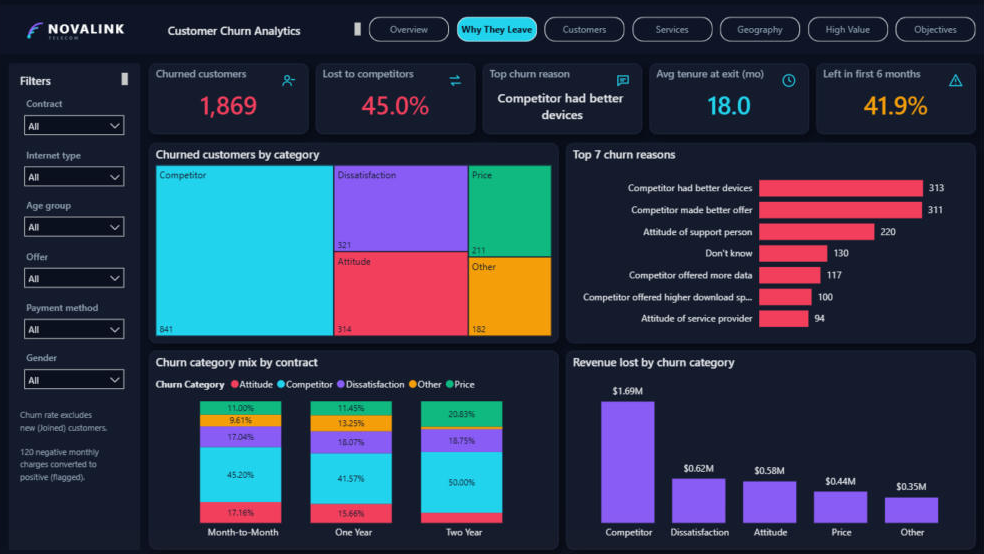

What the dashboard file says about the page in this screenshot:
{"tool":"powerbi","page":{"name":"Why They Leave","canvas":[1280,720],"ordinal":1},"visuals":[{"type":"textbox","box":[0,0,1280,64],"z":2800},{"type":"image","box":[14,8,196,48],"z":2900},{"type":"textbox","box":[214,18,260,32],"z":3000},{"type":"pageNavigator","box":[480,16,788,32],"z":3100},{"type":"textbox","box":[12,76,170,632],"z":3200},{"type":"textbox","box":[22,84,150,26],"z":3300},{"type":"slicer","fields":{"Values":["Customers.Contract"]},"box":[22,116,150,58],"z":3400},{"type":"slicer","fields":{"Values":["Customers.Internet Type"]},"box":[22,182,150,58],"z":3500},{"type":"slicer","fields":{"Values":["Customers.Age Group"]},"box":[22,248,150,58],"z":3600},{"type":"slicer","fields":{"Values":["Customers.Offer"]},"box":[22,314,150,58],"z":3700},{"type":"slicer","fields":{"Values":["Customers.Payment Method"]},"box":[22,380,150,58],"z":3800},{"type":"slicer","fields":{"Values":["Customers.Gender"]},"box":[22,446,150,58],"z":3900},{"type":"textbox","box":[22,520,150,180],"z":4000},{"type":"card","title":"Churned customers","fields":{"Values":["Metrics.Churned"]},"box":[194,76,207,92],"z":4100},{"type":"image","box":[361,84,30,30],"z":4200},{"type":"card","title":"Lost to competitors","fields":{"Values":["Metrics.Competitor Churn Share"]},"box":[411,76,207,92],"z":4300},{"type":"image","box":[578,84,30,30],"z":4400},{"type":"card","title":"Top churn reason","fields":{"Values":["Metrics.Top Churn Reason"]},"box":[628,76,207,92],"z":4500},{"type":"image","box":[795,84,30,30],"z":4600},{"type":"card","title":"Avg tenure at exit (mo)","fields":{"Values":["Metrics.Avg Tenure Churned"]},"box":[844,76,207,92],"z":4700},{"type":"image","box":[1011,84,30,30],"z":4800},{"type":"card","title":"Left in first 6 months","fields":{"Values":["Metrics.Early Churn Share"]},"box":[1061,76,207,92],"z":4900},{"type":"image","box":[1228,84,30,30],"z":5000},{"type":"treemap","title":"Churned customers by category","fields":{"Group":["Customers.Churn Category"],"Values":["Metrics.Churned"]},"box":[194,180,532,260],"z":5100},{"type":"clusteredBarChart","title":"Top 7 churn reasons","fields":{"Category":["Customers.Churn Reason"],"Y":["Metrics.Churned"]},"box":[736,180,532,260],"z":5200},{"type":"hundredPercentStackedColumnChart","title":"Churn category mix by contract","fields":{"Category":["Customers.Contract"],"Series":["Customers.Churn Category"],"Y":["Metrics.Churned"]},"box":[194,450,532,258],"z":5300},{"type":"clusteredColumnChart","title":"Revenue lost by churn category","fields":{"Category":["Customers.Churn Category"],"Y":["Metrics.Revenue Lost"]},"box":[736,450,532,258],"z":5400}]}

Visuals, with their boxes in screenshot pixels (x1, y1, x2, y2), scaled from the page's 1280x720 canvas onto the 984x554 screenshot:
textbox: pyautogui.locateOnScreen(0, 0, 983, 49)
image: pyautogui.locateOnScreen(11, 6, 161, 43)
textbox: pyautogui.locateOnScreen(165, 14, 364, 38)
pageNavigator: pyautogui.locateOnScreen(369, 12, 975, 37)
textbox: pyautogui.locateOnScreen(9, 58, 140, 545)
textbox: pyautogui.locateOnScreen(17, 65, 132, 85)
slicer - Customers.Contract: pyautogui.locateOnScreen(17, 89, 132, 134)
slicer - Customers.Internet Type: pyautogui.locateOnScreen(17, 140, 132, 185)
slicer - Customers.Age Group: pyautogui.locateOnScreen(17, 191, 132, 235)
slicer - Customers.Offer: pyautogui.locateOnScreen(17, 242, 132, 286)
slicer - Customers.Payment Method: pyautogui.locateOnScreen(17, 292, 132, 337)
slicer - Customers.Gender: pyautogui.locateOnScreen(17, 343, 132, 388)
textbox: pyautogui.locateOnScreen(17, 400, 132, 539)
"Churned customers" card: pyautogui.locateOnScreen(149, 58, 308, 129)
image: pyautogui.locateOnScreen(278, 65, 301, 88)
"Lost to competitors" card: pyautogui.locateOnScreen(316, 58, 475, 129)
image: pyautogui.locateOnScreen(444, 65, 467, 88)
"Top churn reason" card: pyautogui.locateOnScreen(483, 58, 642, 129)
image: pyautogui.locateOnScreen(611, 65, 634, 88)
"Avg tenure at exit (mo)" card: pyautogui.locateOnScreen(649, 58, 808, 129)
image: pyautogui.locateOnScreen(777, 65, 800, 88)
"Left in first 6 months" card: pyautogui.locateOnScreen(816, 58, 975, 129)
image: pyautogui.locateOnScreen(944, 65, 967, 88)
"Churned customers by category" treemap: pyautogui.locateOnScreen(149, 138, 558, 339)
"Top 7 churn reasons" clusteredBarChart: pyautogui.locateOnScreen(566, 138, 975, 339)
"Churn category mix by contract" hundredPercentStackedColumnChart: pyautogui.locateOnScreen(149, 346, 558, 545)
"Revenue lost by churn category" clusteredColumnChart: pyautogui.locateOnScreen(566, 346, 975, 545)
